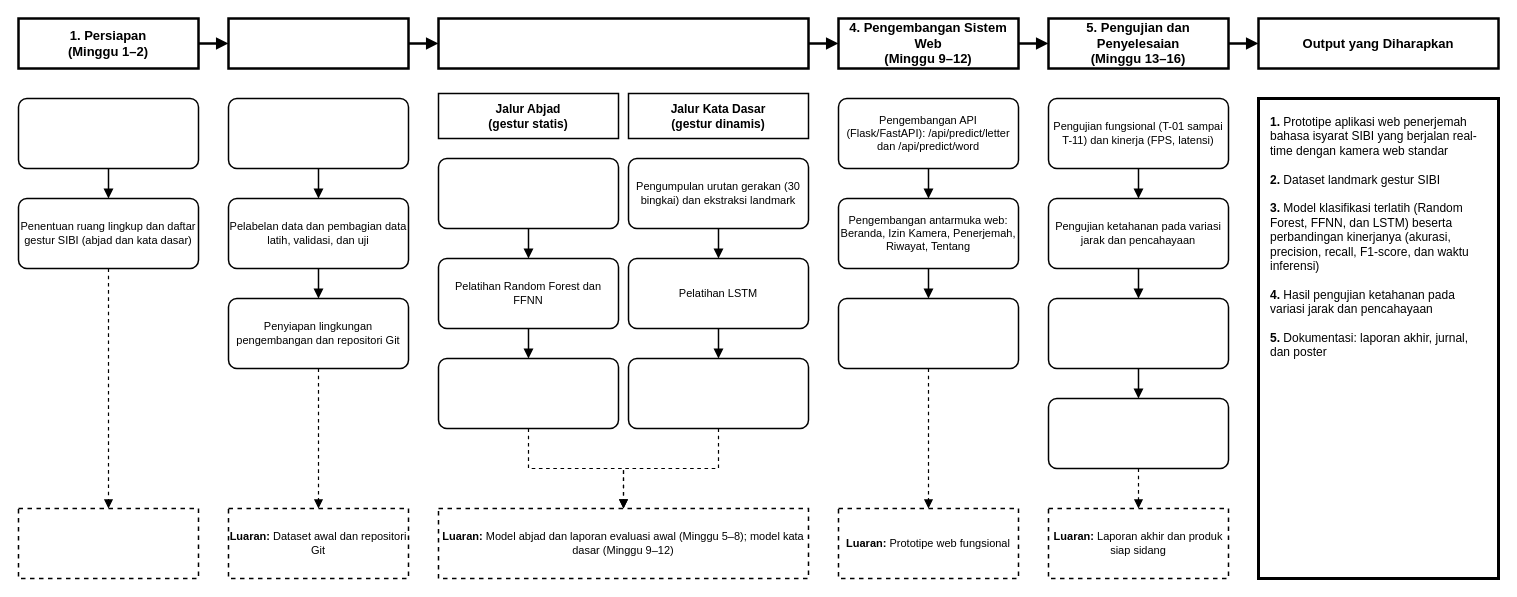
Some shapes in this 1517 by 597 pixel diagram are drawn without their labels. The centre of each missing label's shape, as x and y in pixels:
"2. Penyiapan Data (Minggu 3–4)" goes at pixel 318 43.
"3. Pengembangan Model (Minggu 5–12)" goes at pixel 623 43.
"Ekstraksi 21 landmark dan normalisasi (63 fitur)" goes at pixel 528 193.
"Evaluasi dan perbandingan model abjad" goes at pixel 528 393.
"Evaluasi model kata dasar" goes at pixel 718 393.
"Integrasi inferensi real-time dan penyusunan teks" goes at pixel 928 333.
"Luaran: Proposal final dan daftar gestur SIBI" goes at pixel 108 543.
"Pengumpulan dataset publik dan rekaman mandiri" goes at pixel 318 133.
"Perbaikan dan penyusunan laporan, jurnal, dan poster" goes at pixel 1138 433.
"Studi literatur dan validasi kebutuhan" goes at pixel 108 133.
"Uji coba pengguna terbatas" goes at pixel 1138 333.
